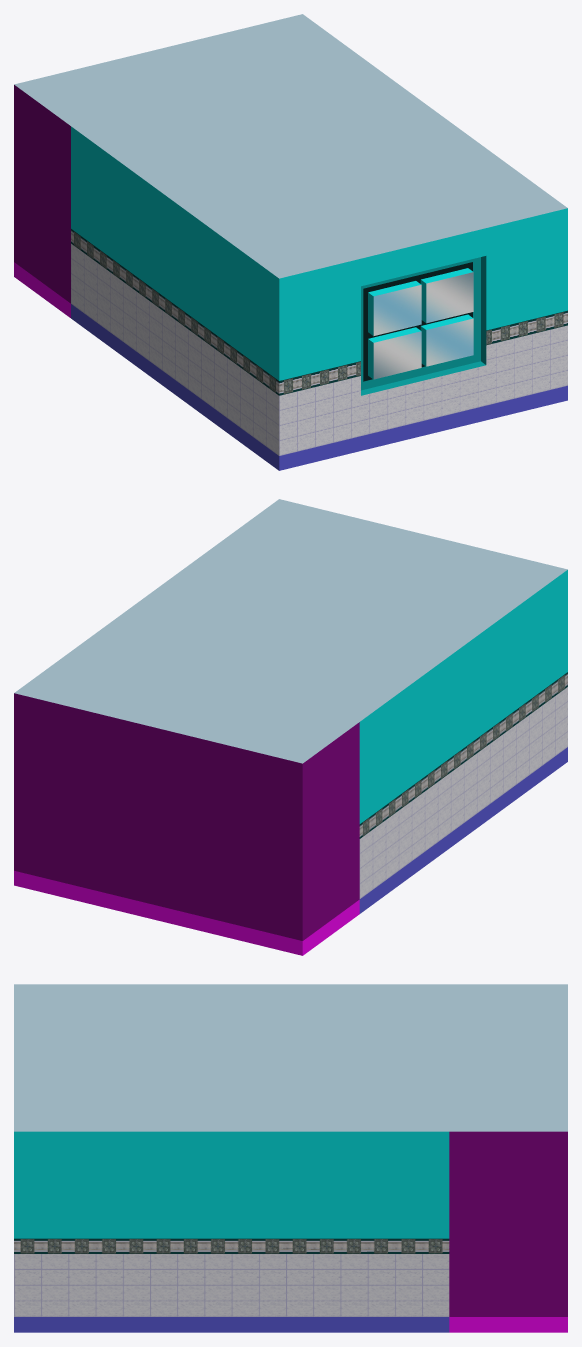
The model's file is ENVI_Bathroom.obj.
The picture shows the model from 3 angles, top to bottom: view 1: azimuth 30°, elevation 25°; view 2: azimuth 150°, elevation 25°; view 3: azimuth 270°, elevation 25°; orthographic projection. The views are drawn at different scales.
Parts seen in each view (by area): view 1: ENVI_Bathroom; view 2: ENVI_Bathroom; view 3: ENVI_Bathroom.
Part boxes in pixels (x1,y1,x2,y2): ENVI_Bathroom: (14,14,567,470); ENVI_Bathroom: (14,499,567,955); ENVI_Bathroom: (14,984,567,1332).
Bounding box in the file's own units: 4.4 × 2.8 × 7.
14 materials, 7 textured.
